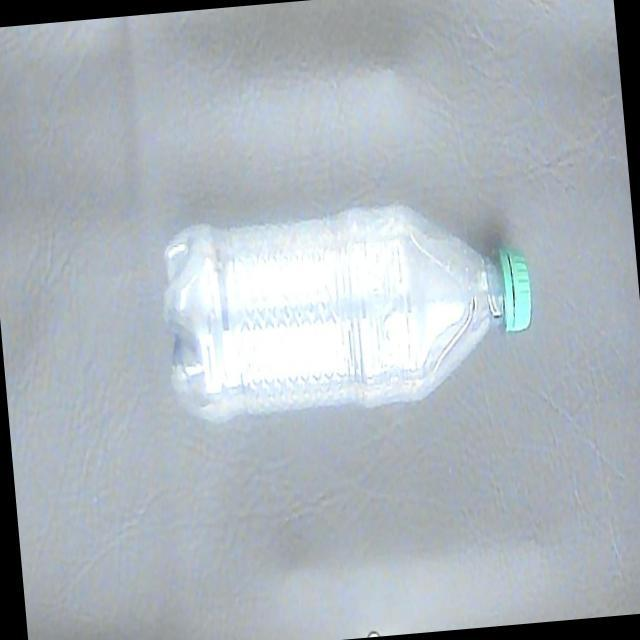good: (153, 184, 542, 436)
